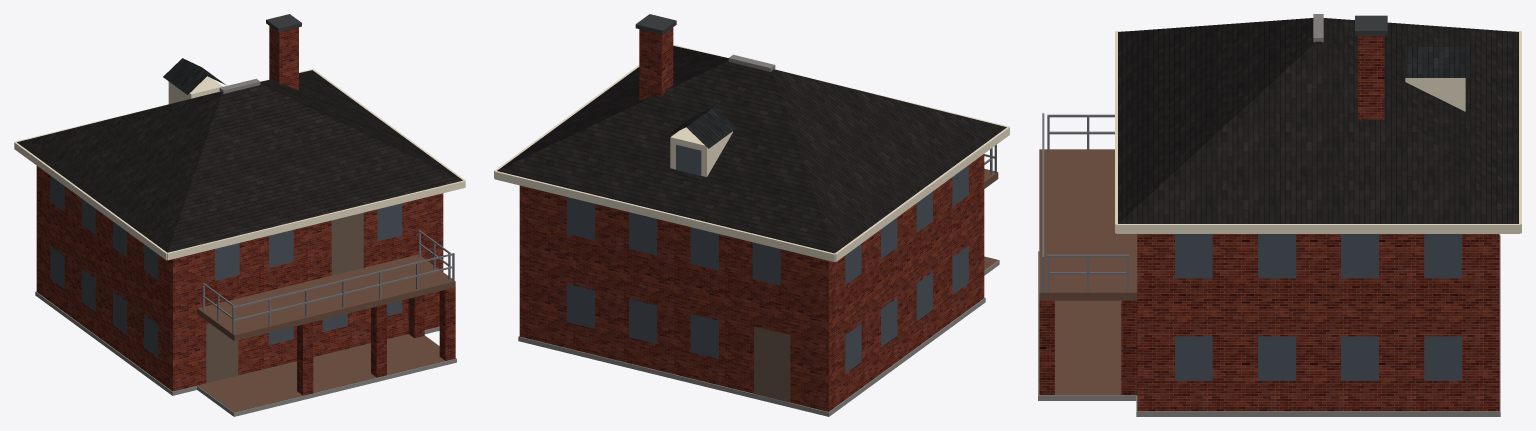
File: mh-foreman-house.towns-v1.lod1.glb
3 views of the same model, side by side, from view 1: azimuth 30°, elevation 25°; view 2: azimuth 150°, elevation 25°; view 3: azimuth 270°, elevation 25° (orthographic). The views are drawn at different scales.
Parts seen in each view (by area): view 1: mh-foreman-house; view 2: mh-foreman-house; view 3: mh-foreman-house.
Boxes of the visible parts, bbox=[...] form: mh-foreman-house: bbox=[14, 14, 465, 416]; mh-foreman-house: bbox=[494, 14, 1009, 416]; mh-foreman-house: bbox=[1038, 14, 1521, 416].
Bounding box in the file's own units: 12.18 × 10.14 × 12.82.
3 materials, 2 textured.
